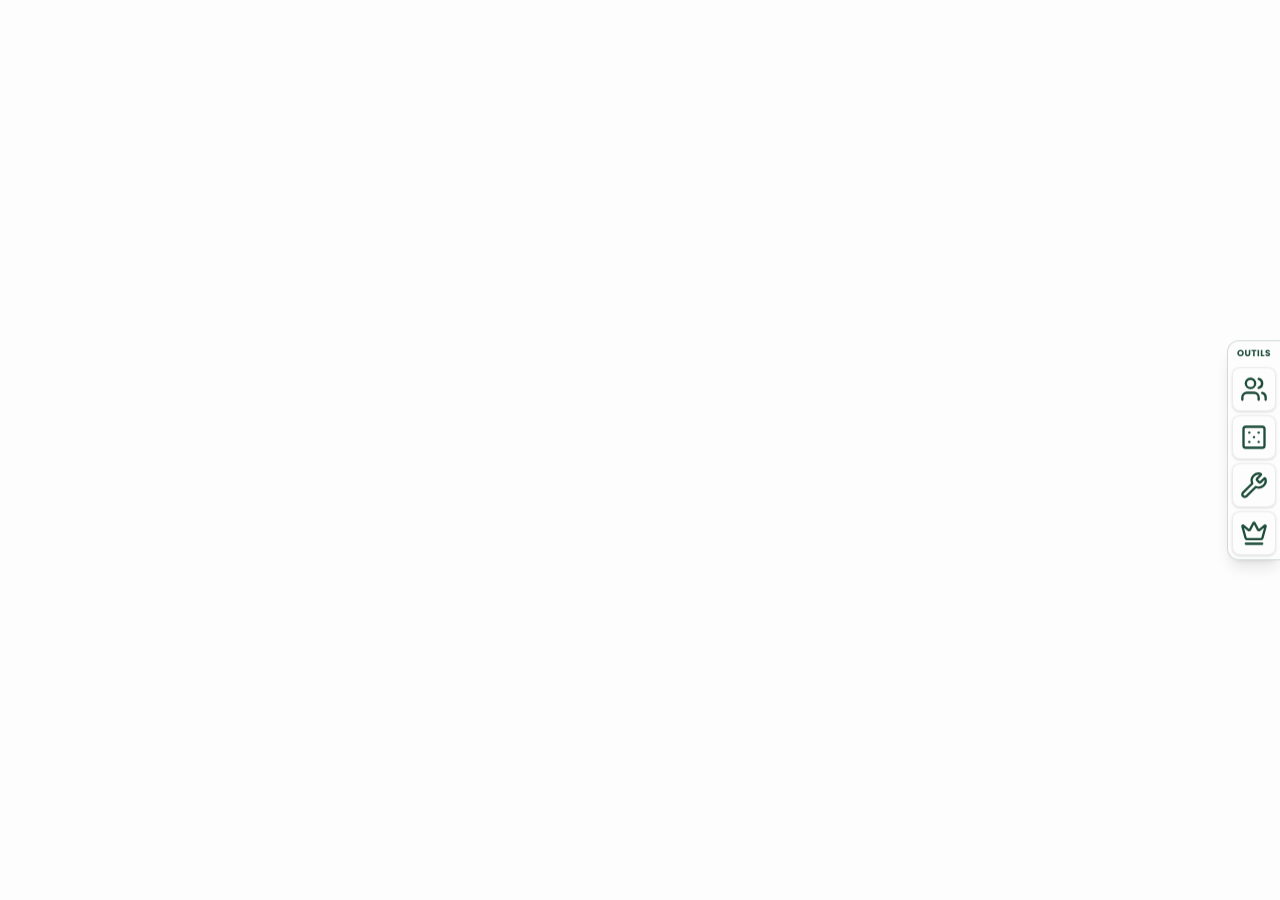
Test: SessionToolsDrawer › uses tool categories and marks planned items as non-actionable
Click the button named "Ouvrir Joueurs et échanges" at (1254, 389), box [1232,367,1276,411]
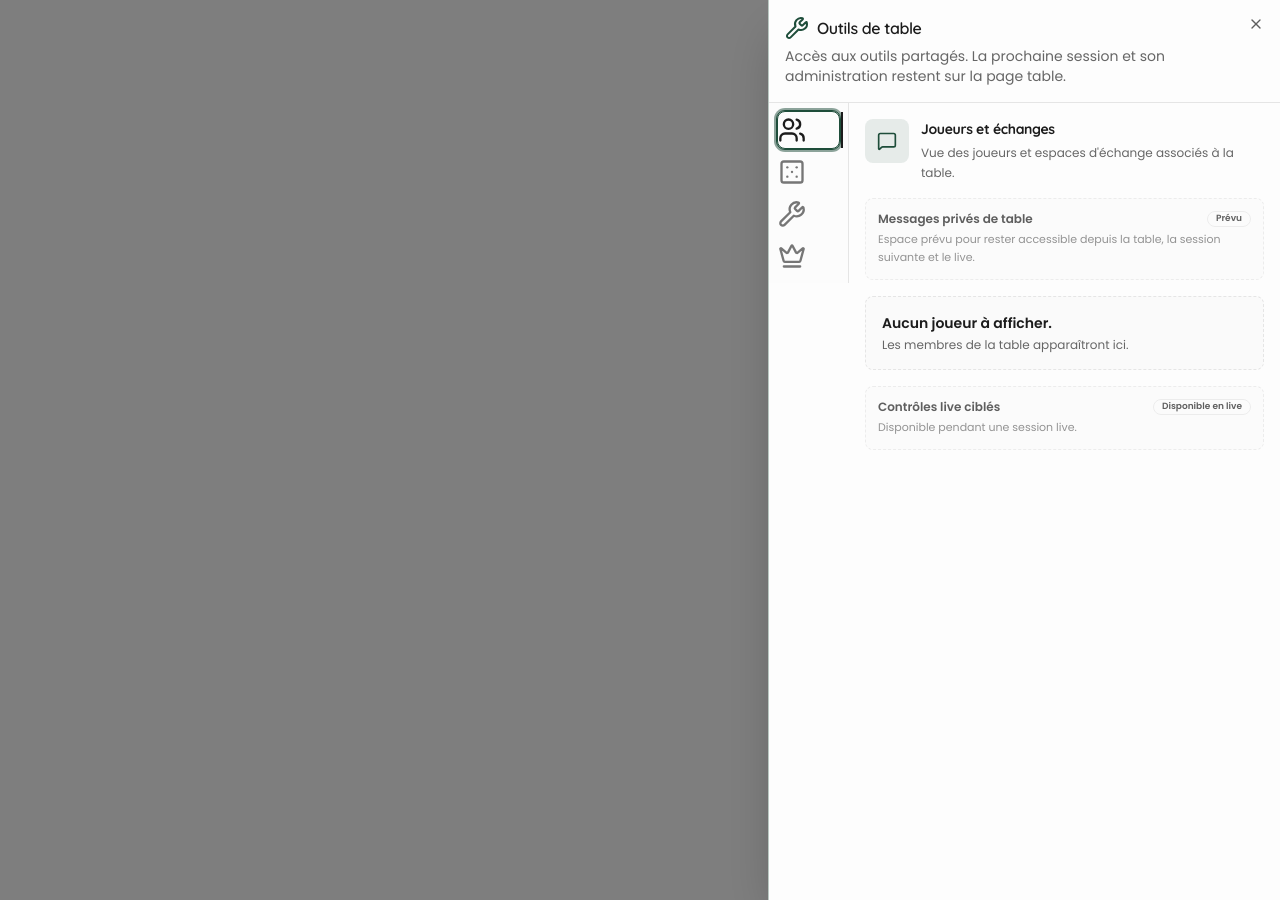
Expected: the heading "Outils de table" is shown, [785,16,922,40]
Expected: the heading "Joueurs et échanges" is shown, [921,120,1055,138]
Expected: the text "Messages privés de table" is shown, [878,210,1033,227]
